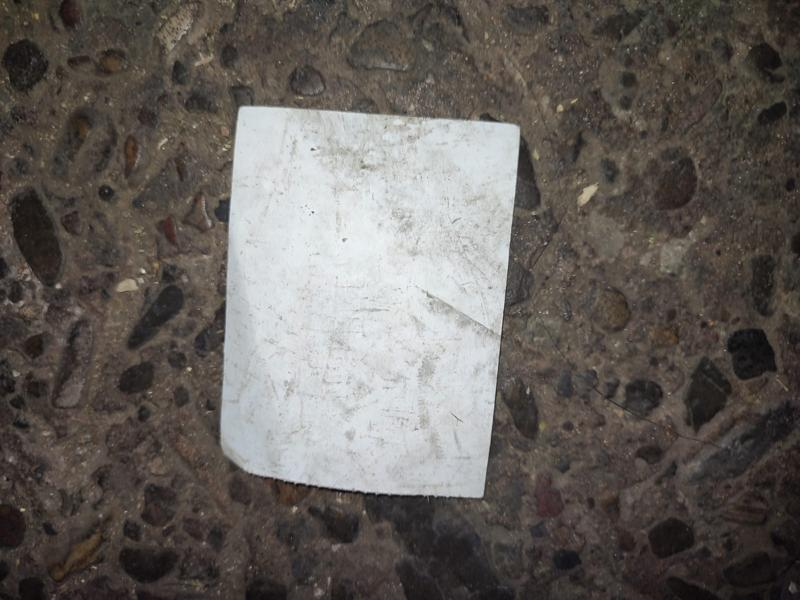papel: (218, 106, 525, 500)
